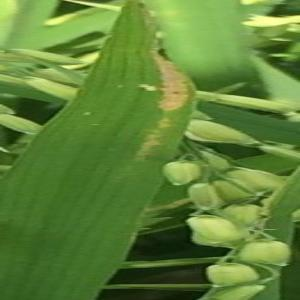Bacterial_Blight: (80, 10, 189, 165)
